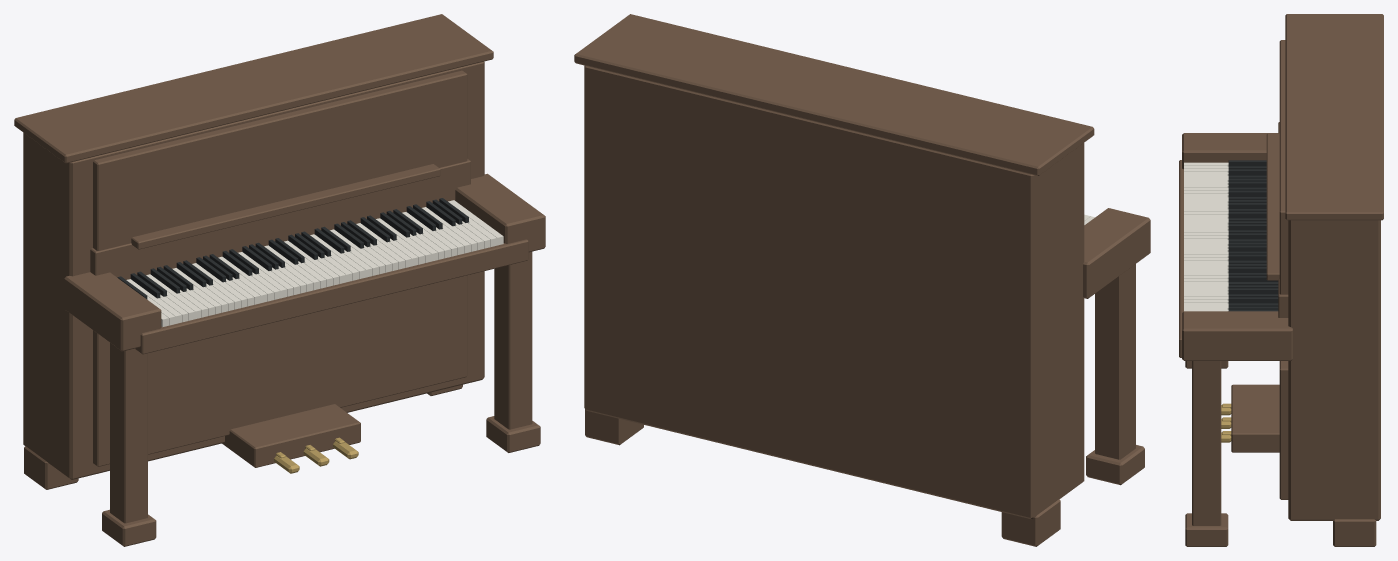
The picture shows the model from 3 angles, left to right: view 1: azimuth 30°, elevation 25°; view 2: azimuth 150°, elevation 25°; view 3: azimuth 270°, elevation 25°; orthographic projection. The views are drawn at different scales.
Visible parts, largest first — view 1: Lower front panel, Upper front panel, Upright acoustic case, Top lid, Fixed open fallboard, Continuous keybed, Front keyboard support leg, Front keyboard support leg.001, Pedal mounting base, Keyboard side cheek, Music ledge, Keyboard side cheek.001 (+3 smaller); view 2: Upright acoustic case, Top lid, Front keyboard support leg, Keyboard side cheek, Actual ground foot.001, Actual ground foot, Actual ground foot.003; view 3: Upright acoustic case, Top lid, Keyboard side cheek.001, Front keyboard support leg.001, Pedal mounting base, Keyboard side cheek, Music ledge, Upper front panel, Lower front panel, Actual ground foot.003, Actual ground foot.002, Continuous keybed (+12 smaller).
Boxes of the visible parts, bbox=[...] form: Lower front panel: bbox=[93, 275, 467, 466]; Upper front panel: bbox=[93, 70, 467, 250]; Upright acoustic case: bbox=[23, 61, 484, 479]; Top lid: bbox=[14, 14, 493, 163]; Fixed open fallboard: bbox=[90, 159, 470, 279]; Continuous keybed: bbox=[135, 239, 528, 354]; Front keyboard support leg: bbox=[110, 343, 147, 523]; Front keyboard support leg.001: bbox=[494, 251, 532, 429]; Pedal mounting base: bbox=[222, 404, 360, 467]; Keyboard side cheek: bbox=[64, 272, 161, 351]; Music ledge: bbox=[131, 164, 440, 249]; Keyboard side cheek.001: bbox=[455, 173, 545, 252]; Upright acoustic case: bbox=[584, 65, 1084, 519]; Top lid: bbox=[574, 14, 1094, 175]; Front keyboard support leg: bbox=[1095, 264, 1135, 459]; Keyboard side cheek: bbox=[1083, 208, 1150, 298]; Actual ground foot.001: bbox=[1001, 499, 1060, 546]; Actual ground foot: bbox=[1086, 445, 1144, 485]; Actual ground foot.003: bbox=[585, 409, 643, 445]; Upright acoustic case: bbox=[1288, 220, 1380, 520]; Top lid: bbox=[1285, 14, 1383, 220]; Keyboard side cheek.001: bbox=[1182, 311, 1292, 360]; Front keyboard support leg.001: bbox=[1192, 361, 1221, 525]; Pedal mounting base: bbox=[1231, 384, 1279, 452]; Keyboard side cheek: bbox=[1182, 133, 1277, 169]; Music ledge: bbox=[1266, 133, 1279, 280]; Upper front panel: bbox=[1279, 40, 1288, 294]; Lower front panel: bbox=[1279, 361, 1288, 499]; Actual ground foot.003: bbox=[1333, 519, 1376, 546]; Actual ground foot.002: bbox=[1185, 513, 1228, 546]; Continuous keybed: bbox=[1179, 160, 1183, 357].
Bounding box in the file's own units: 1.53 × 1.21 × 0.665.
